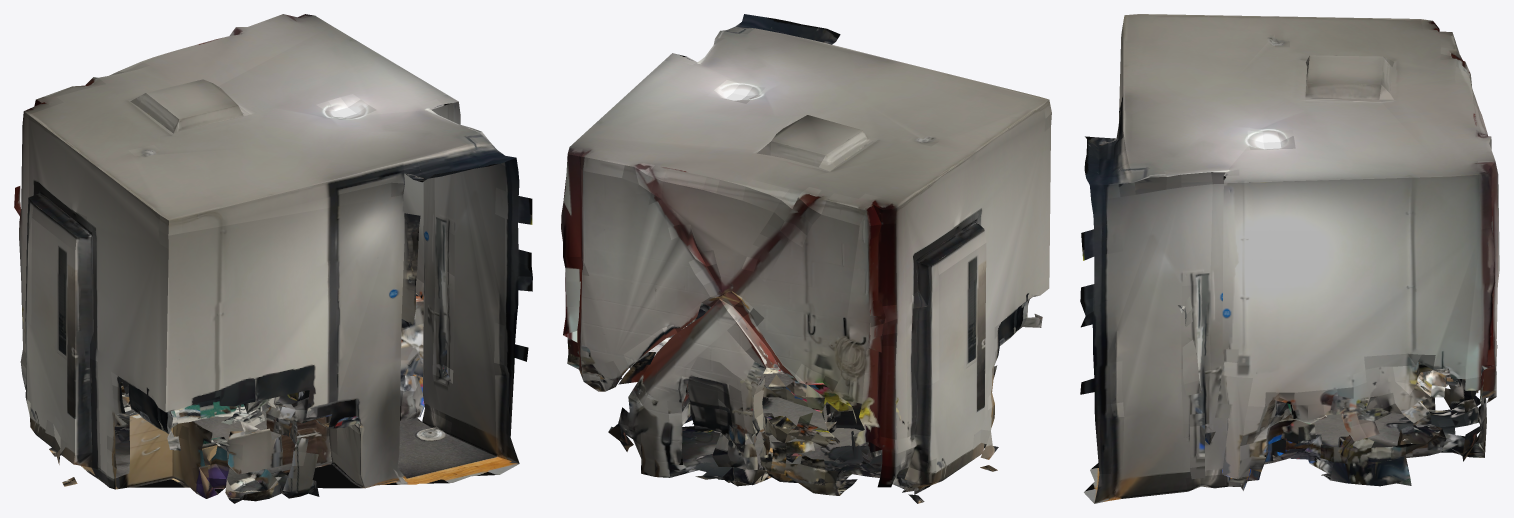
File: Tv_back_left-IM.fbx
3 views of the same model, side by side, from view 1: azimuth 30°, elevation 25°; view 2: azimuth 150°, elevation 25°; view 3: azimuth 270°, elevation 25° (orthographic). The views are drawn at different scales.
Visible parts, largest first — view 1: Tv_back_left-IM; view 2: Tv_back_left-IM; view 3: Tv_back_left-IM.
Part boxes in pixels (x1,y1,x2,y2): Tv_back_left-IM: (14,14,532,503); Tv_back_left-IM: (561,14,1051,503); Tv_back_left-IM: (1080,14,1499,503).
Bounding box in the file's own units: 338 × 292 × 321.
1 material, 1 textured.
